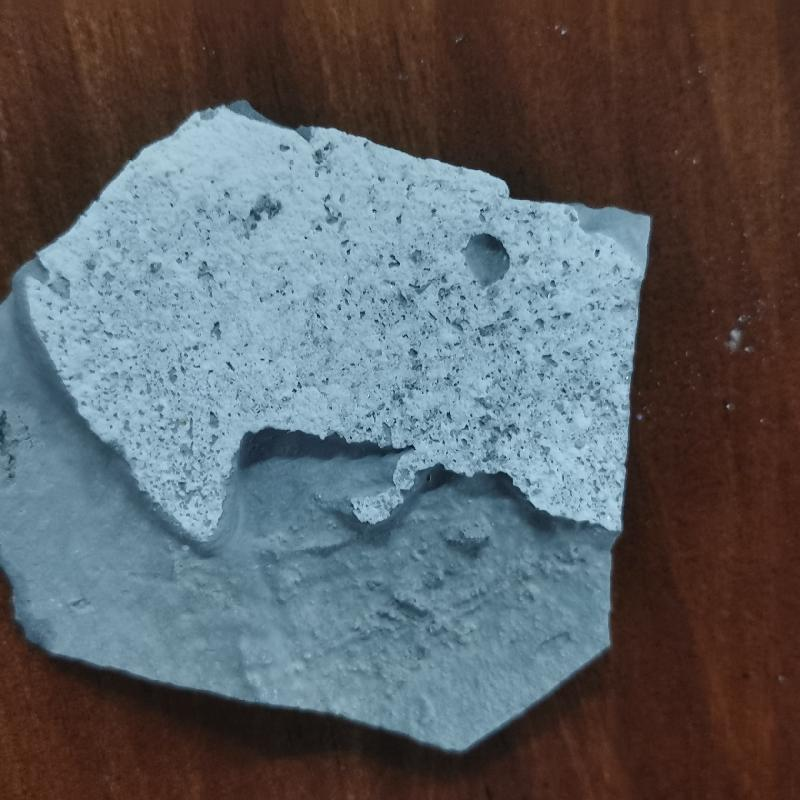tile: (3, 98, 631, 768)
